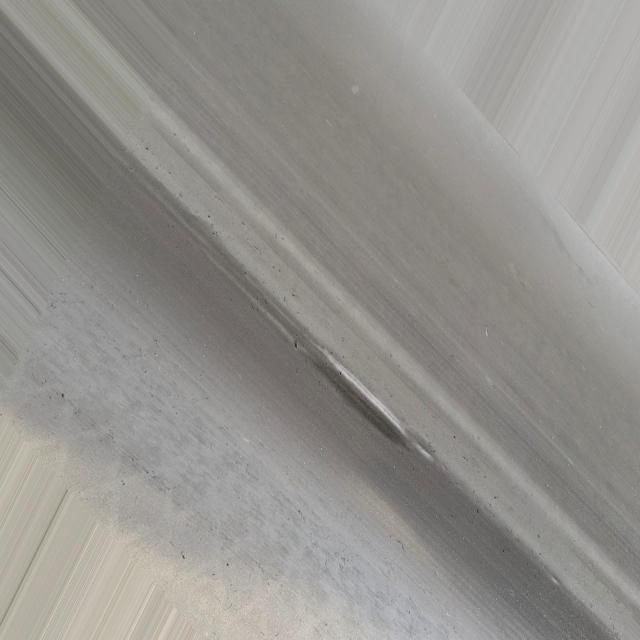Impact Damage: (316, 340, 432, 457)
